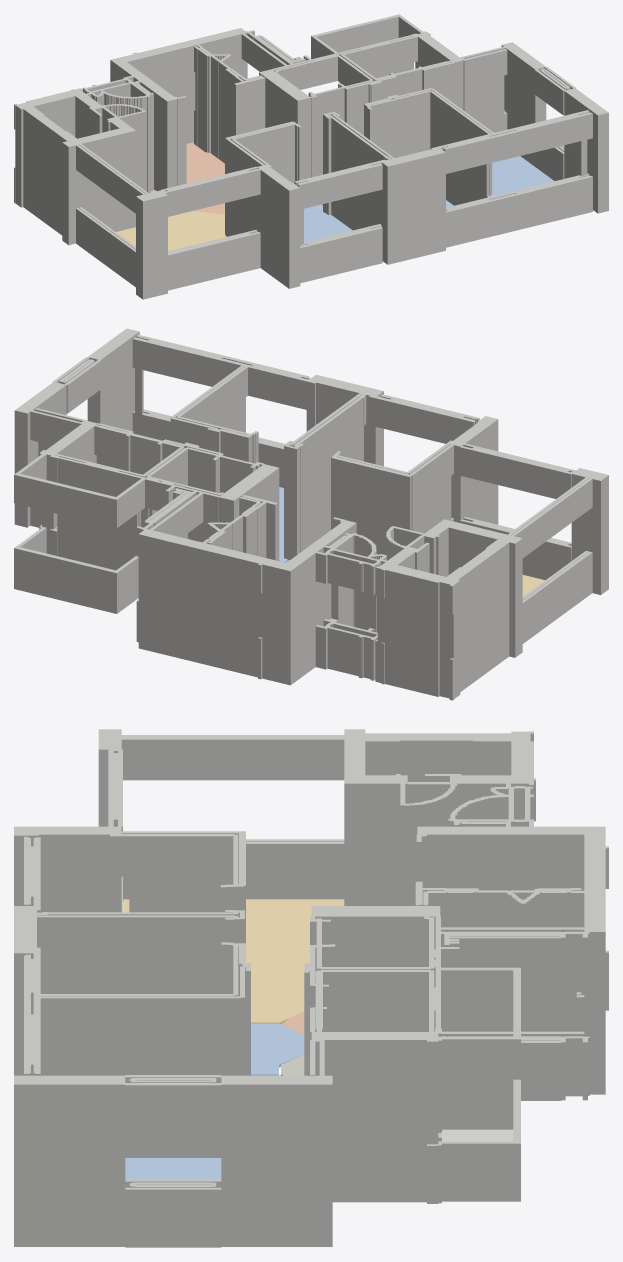
3 views of the same model, one above another, from view 1: azimuth 30°, elevation 25°; view 2: azimuth 150°, elevation 25°; view 3: azimuth 270°, elevation 25° (orthographic). The views are drawn at different scales.
Parts seen in each view (by area): view 1: walls, room:living:0, room:bedroom:9, room:kitchen:6, room:bedroom:1; view 2: walls; view 3: walls, room:living:0, room:bedroom:1, room:bedroom:9, room:ledge:2.
Part boxes in pixels (box(x1,y1,x2,y2)): walls: box(14, 14, 608, 299); room:living:0: box(116, 211, 226, 250); room:bedroom:9: box(492, 156, 554, 195); room:kitchen:6: box(150, 142, 224, 214); room:bedroom:1: box(304, 204, 352, 242); walls: box(14, 328, 608, 700); walls: box(14, 729, 608, 1247); room:living:0: box(123, 899, 344, 1024); room:bedroom:1: box(251, 1023, 304, 1075); room:bedroom:9: box(125, 1158, 221, 1179); room:ledge:2: box(442, 1129, 513, 1141).
Bounding box in the file's own units: 13.16 × 2.8 × 9.29.
